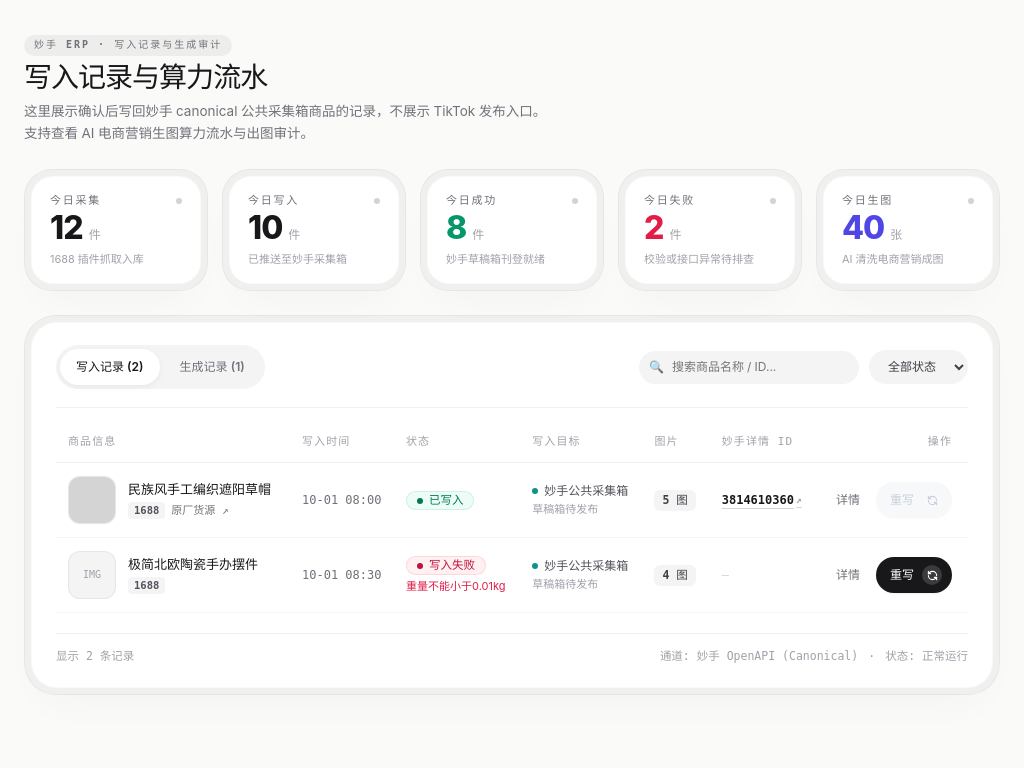
Test: WriteRecordsWorkspace › filters items by status dropdown
Select "写入失败" in the dropdown at (918, 368), box 869,350 -> 968,384
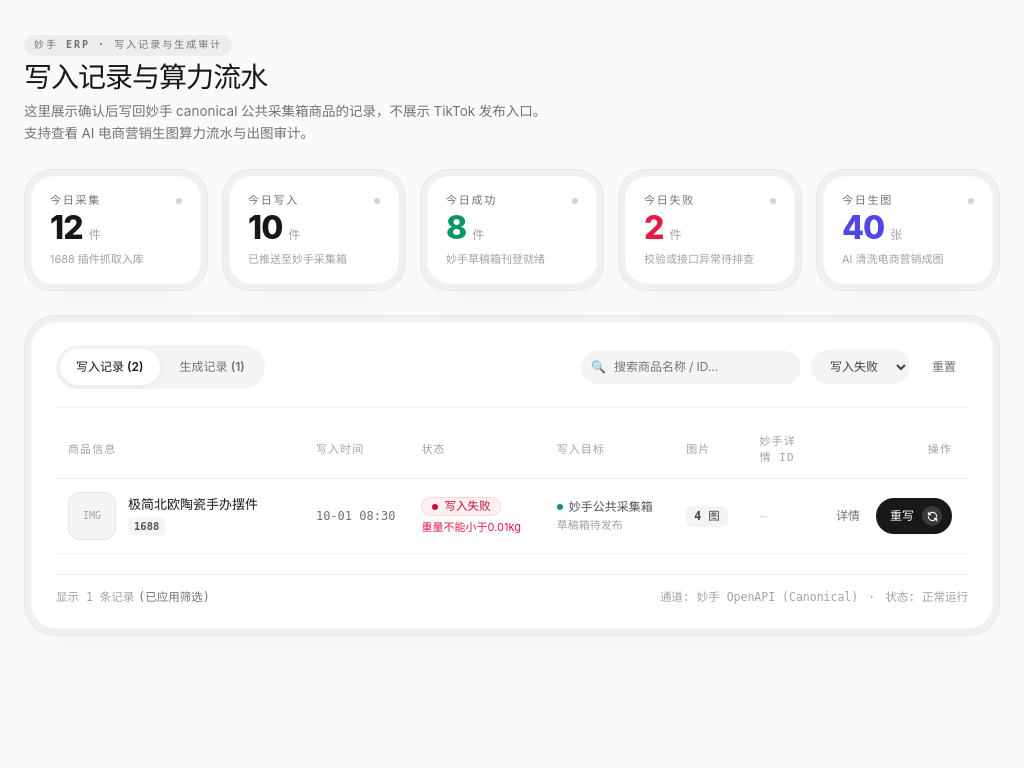
Expected: the text "极简北欧陶瓷手办摆件" is shown, 128,496 -> 258,516
Now the text "民族风手工编织遮阳草帽" is gone
